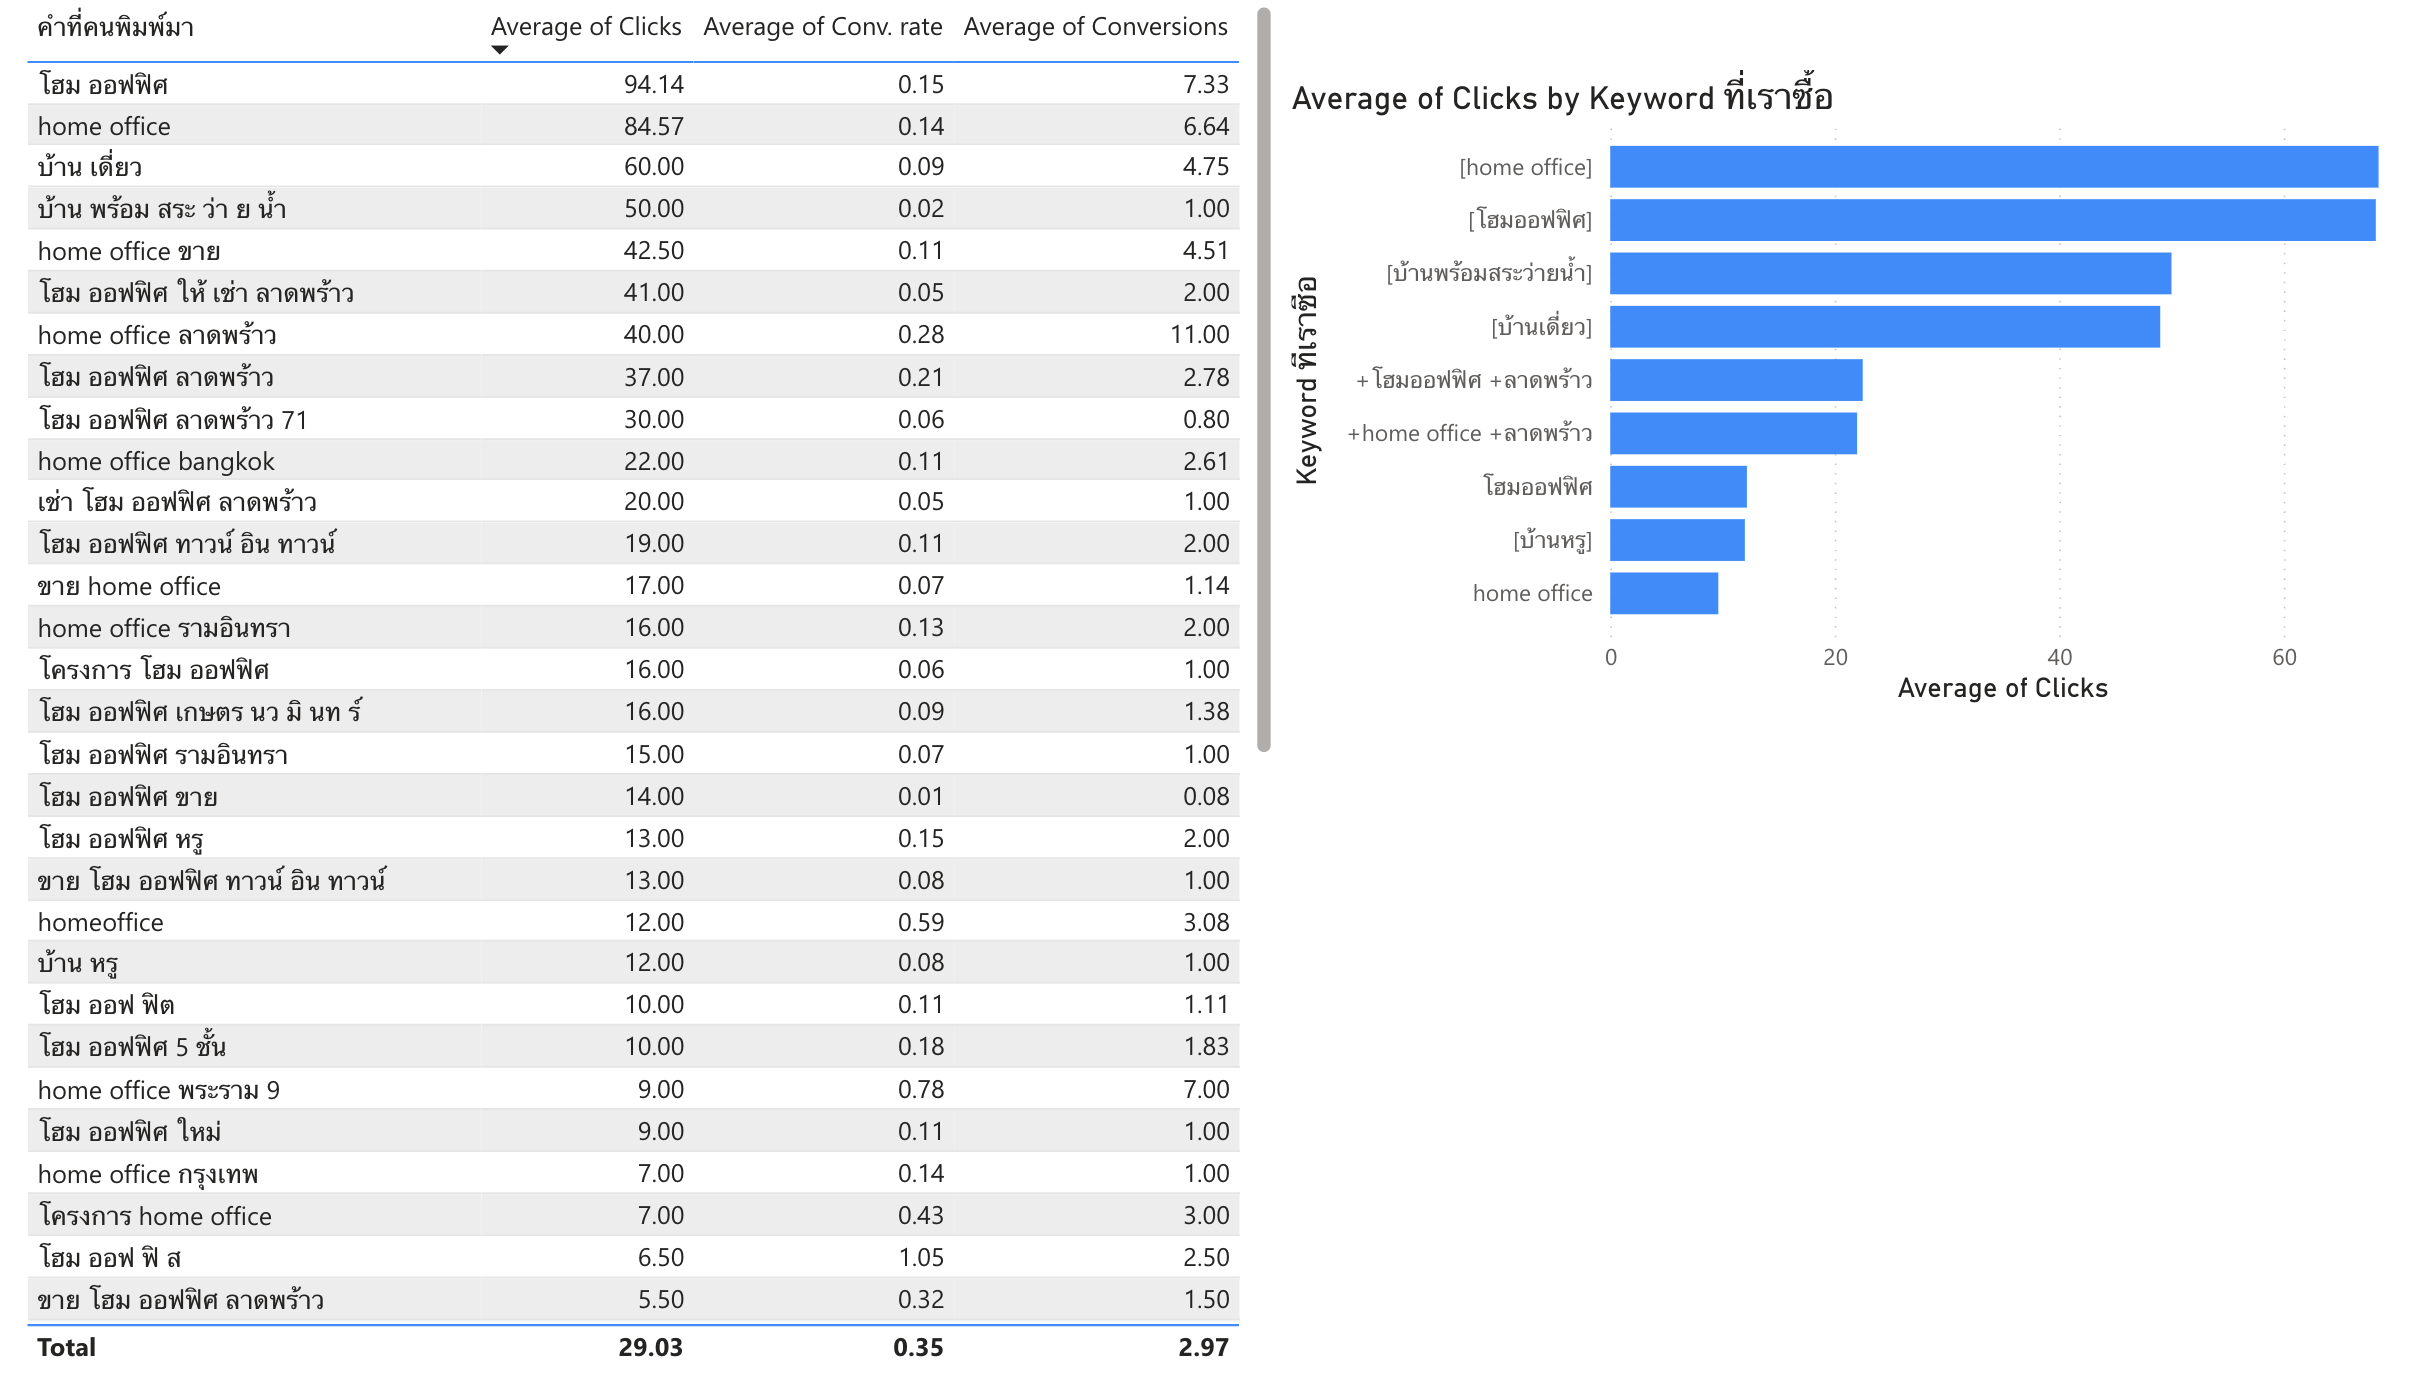

What the dashboard file says about the page in this screenshot:
{"tool":"powerbi","page":{"name":"Page 2","canvas":[1280,720],"ordinal":1},"visuals":[{"type":"tableEx","fields":{"Values":["TheCivilizeSearchEngine.คำที่คนพิมพ์มา","Avg(TheCivilizeSearchEngine.Clicks)","Avg(TheCivilizeSearchEngine.Conv. rate)","Avg(TheCivilizeSearchEngine.Conversions)"]},"box":[9.8,0,661.4,719.9],"z":0},{"type":"clusteredBarChart","fields":{"Y":["Avg(TheCivilizeSearchEngine.Clicks)"],"Category":["TheCivilizeSearchEngine.Keyword ที่เราซื้อ"]},"box":[671.1,39,594.2,335.6],"z":1}]}

Visuals, with their boxes in screenshot pixels (x1, y1, x2, y2), scaled from the page's 1280x720 canvas onto the 2432x1392 screenshot:
tableEx - TheCivilizeSearchEngine.คำที่คนพิมพ์มา x Avg(TheCivilizeSearchEngine.Clicks): {"x1": 19, "y1": 0, "x2": 1275, "y2": 1391}
clusteredBarChart - Avg(TheCivilizeSearchEngine.Clicks) x TheCivilizeSearchEngine.Keyword ที่เราซื้อ: {"x1": 1275, "y1": 75, "x2": 2404, "y2": 724}
